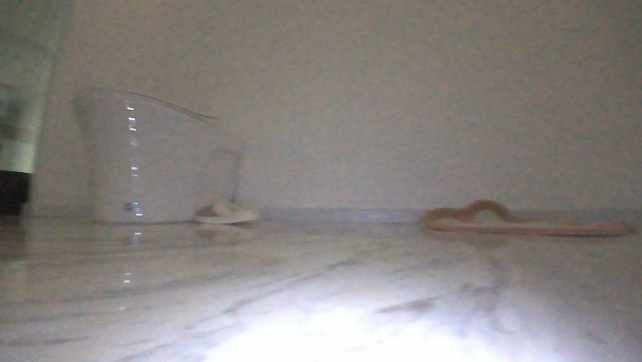blanket: (416, 214, 633, 239)
shoe: (191, 197, 258, 226)
toilet: (68, 84, 220, 227)
